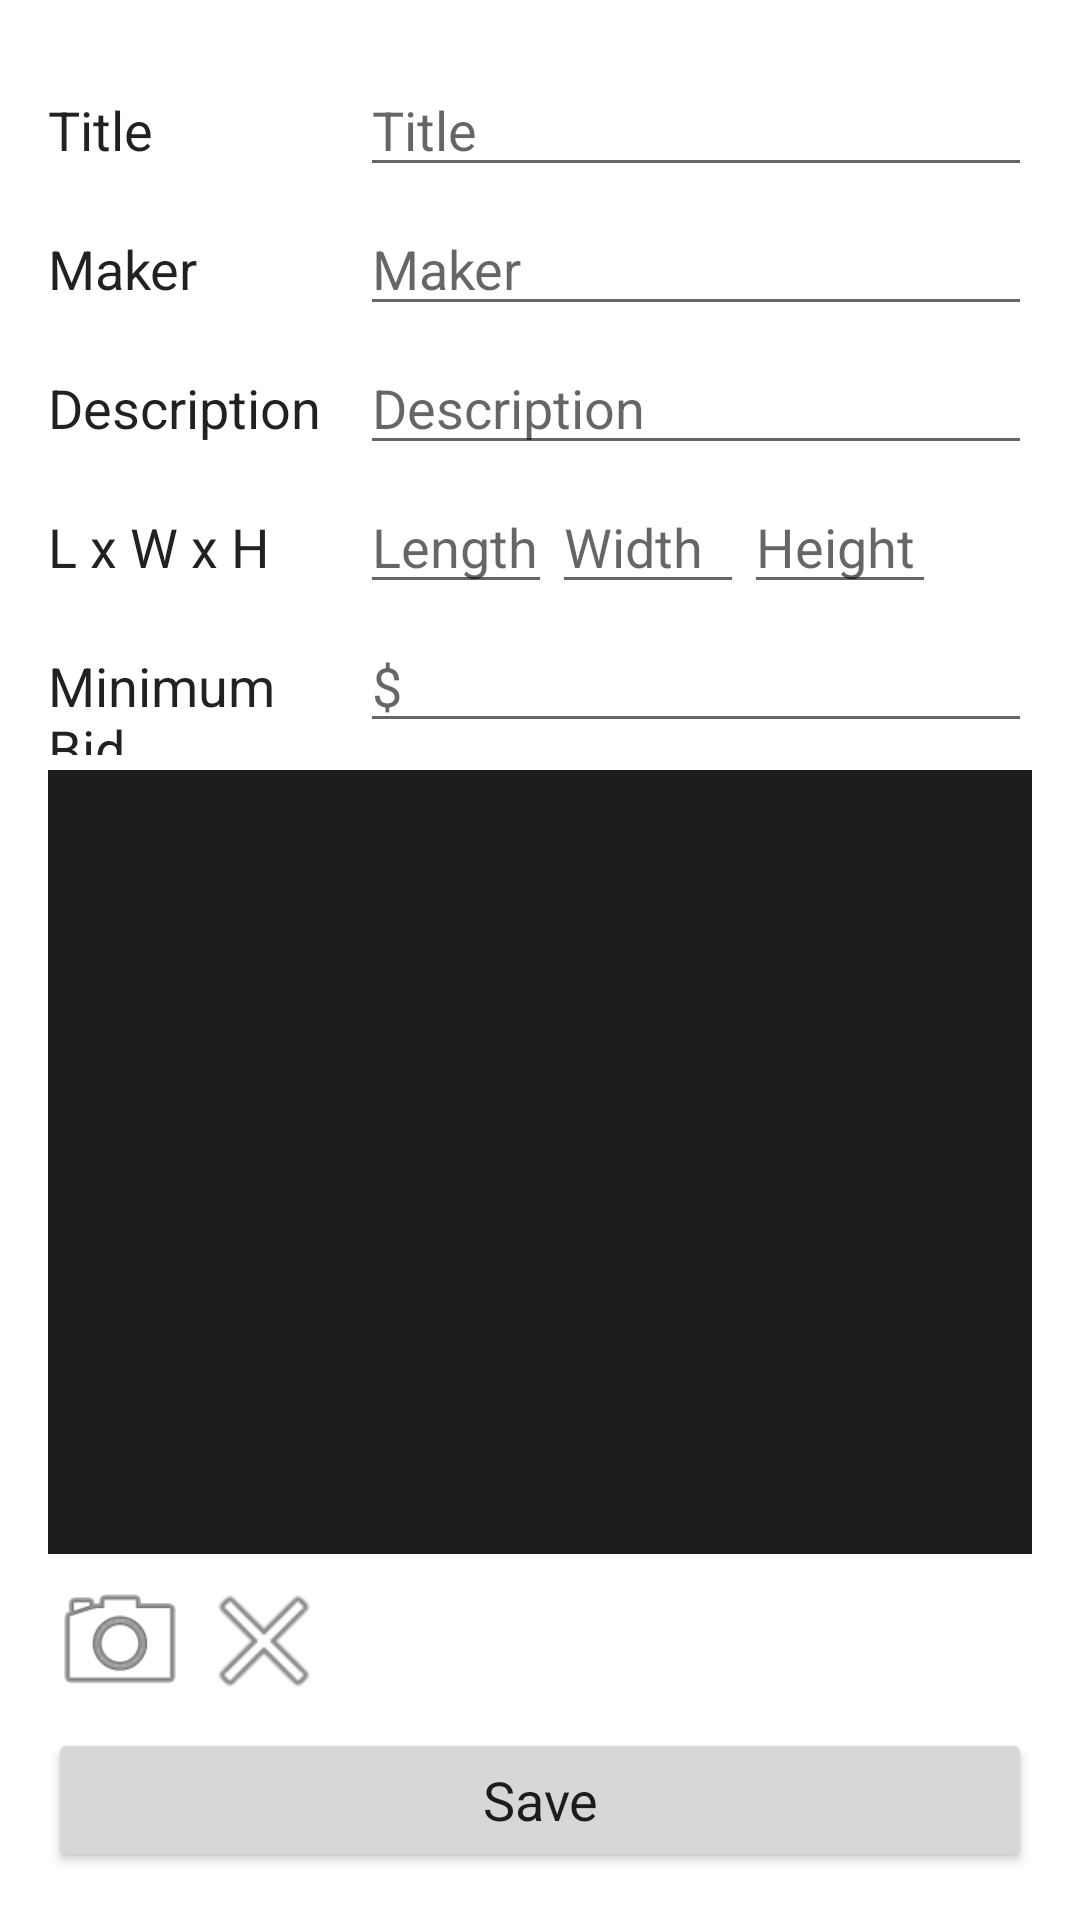

Icon click points for this 1080*1920 phone screenshot, format [x,y]:
camera: [120,1638]
close clear cancel: [264,1641]
